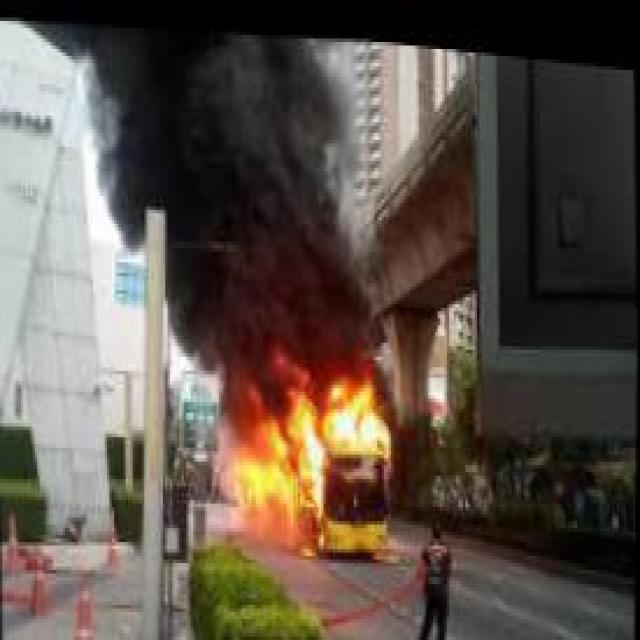Fire: (226, 318, 407, 553)
Smoke: (72, 7, 398, 364)
